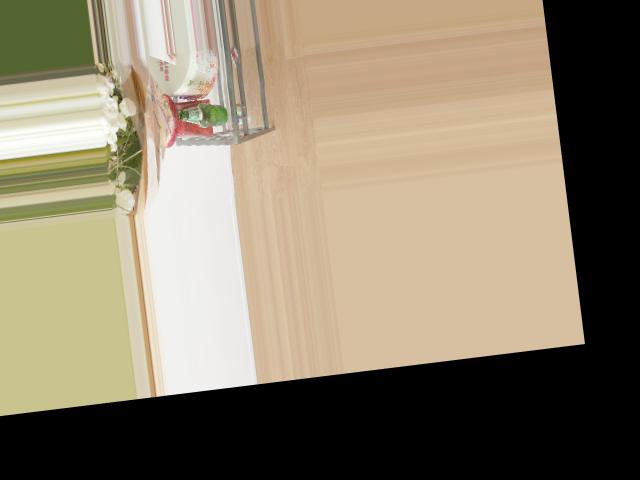beer: (177, 99, 229, 130)
